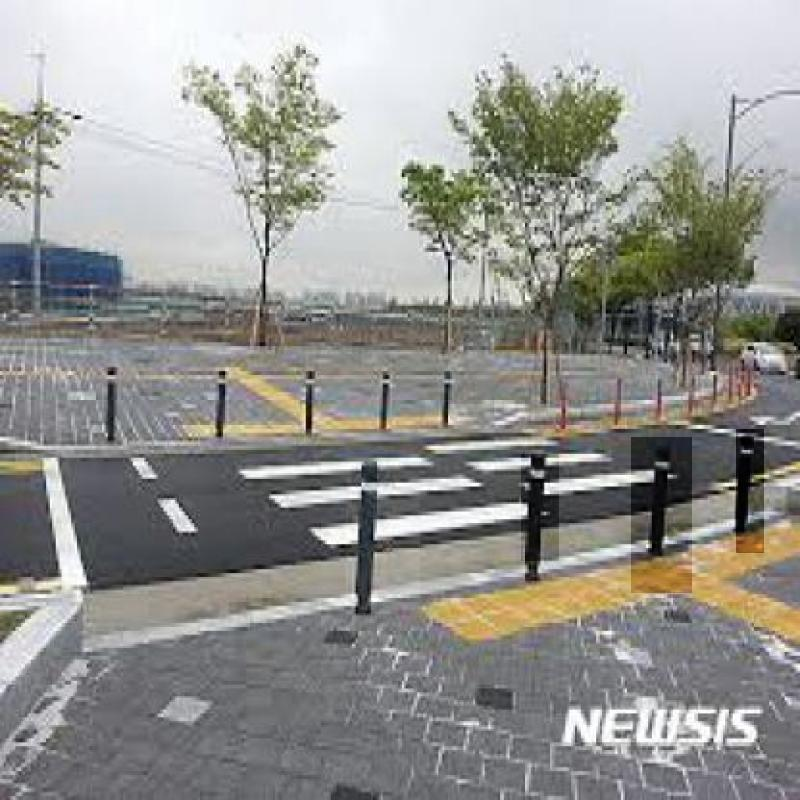bolard: (346, 483, 420, 614), (631, 437, 692, 593), (521, 454, 559, 561), (736, 429, 764, 553)
